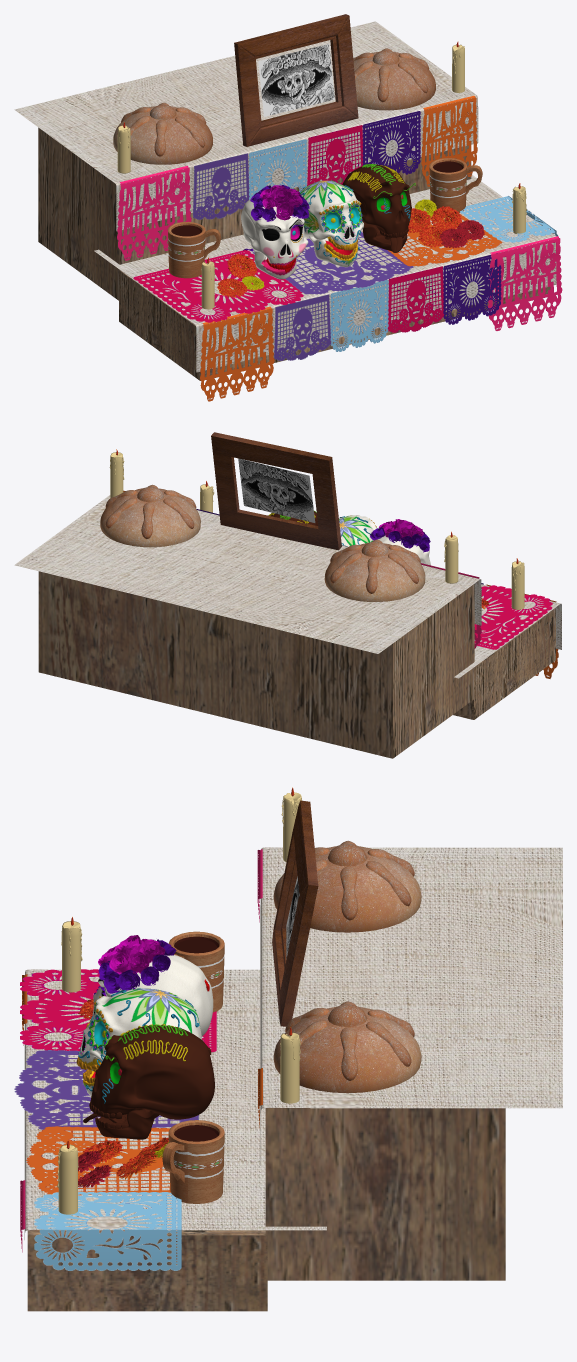
File: Ofrenda.obj
The picture shows the model from 3 angles, top to bottom: view 1: azimuth 30°, elevation 25°; view 2: azimuth 150°, elevation 25°; view 3: azimuth 270°, elevation 25°; orthographic projection. The views are drawn at different scales.
Parts seen in each view (by area): view 1: Mantel_blanco, Mantel_blanco_02, Mesa_altar_03, cuadro_ramka01, Mesa_altar_01, papel_dia_naranja_02, papel_base_rosa_04, papel_dia_rosa_02, papel_dia_rosa_01, CATRINA, pan_muerto_pan_muerto_base001, papel_calavera_morado3 (+24 smaller); view 2: Mesa_altar_03, Mantel_blanco, cuadro_ramka01, Mesa_altar_01, pan_muerto_pan_muerto_base, pan_muerto_pan_muerto_base001, CATRINA, papel_base_rosa_04, vela1, Mantel_blanco_02, Craneo_superior_base_01; view 3: Mantel_blanco, Mesa_altar_03, Mantel_blanco_02, Mesa_altar_01, papel_base_azul4, CALAVERA_06_CHOCOLATE_Craneo_superior_base_01, pan_muerto_pan_muerto_base, pan_muerto_pan_muerto_base001, cuadro_ramka01, papel_calavera_morado3, papel_base_rosa_04, Craneo_superior_base_01 (+11 smaller).
Part boxes in pixels (x1,y1,x2,y2): Mantel_blanco: (14, 21, 478, 231); Mantel_blanco_02: (94, 175, 556, 372); Mesa_altar_03: (38, 127, 471, 300); cuadro_ramka01: (234, 14, 358, 146); Mesa_altar_01: (119, 270, 550, 380); papel_dia_naranja_02: (200, 306, 274, 401); papel_base_rosa_04: (133, 250, 303, 322); papel_dia_rosa_02: (487, 236, 562, 330); papel_dia_rosa_01: (117, 165, 191, 260); CATRINA: (258, 44, 334, 116); pan_muerto_pan_muerto_base001: (113, 106, 212, 164); papel_calavera_morado3: (252, 231, 413, 294); Mesa_altar_03: (38, 571, 474, 758); Mantel_blanco: (14, 495, 481, 653); cuadro_ramka01: (211, 432, 341, 550); Mesa_altar_01: (453, 608, 555, 719); pan_muerto_pan_muerto_base: (100, 488, 200, 547); pan_muerto_pan_muerto_base001: (324, 543, 425, 601); CATRINA: (238, 458, 315, 522); papel_base_rosa_04: (474, 585, 552, 649); vela1: (110, 452, 524, 609); Mantel_blanco_02: (454, 584, 561, 678); Craneo_superior_base_01: (339, 515, 376, 546); Mantel_blanco: (260, 847, 562, 1165); Mesa_altar_03: (265, 1108, 505, 1280); Mantel_blanco_02: (24, 969, 326, 1239); Mesa_altar_01: (27, 1230, 267, 1311); papel_base_azul4: (34, 1192, 181, 1270); CALAVERA_06_CHOCOLATE_Craneo_superior_base_01: (90, 1025, 214, 1119); pan_muerto_pan_muerto_base: (273, 1006, 421, 1093); pan_muerto_pan_muerto_base001: (273, 846, 421, 932); cuadro_ramka01: (272, 800, 318, 1026); papel_calavera_morado3: (14, 1050, 199, 1129); papel_base_rosa_04: (20, 969, 216, 1052); Craneo_superior_base_01: (78, 988, 201, 1066).
Size of the model in its own units: 22.48 by 15.17 by 19.73.
37 materials, 21 textured.
